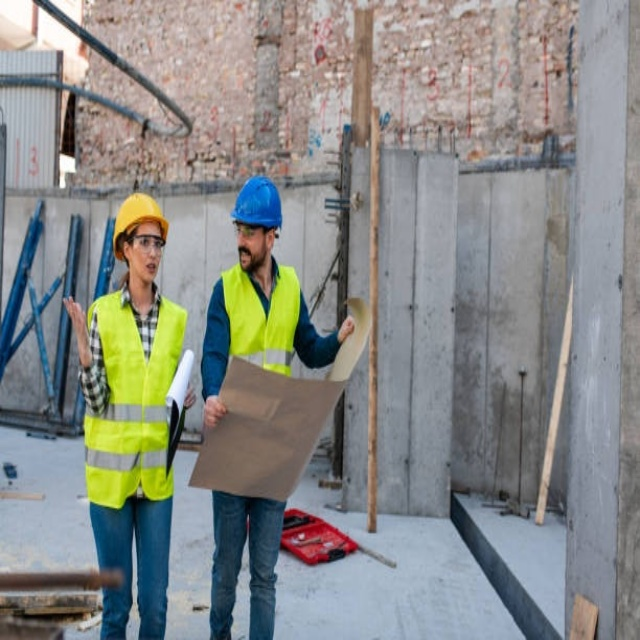Gafas: (130, 236, 166, 252), (233, 222, 268, 237)
Sin_guantes: (60, 293, 96, 358), (203, 394, 227, 429), (337, 316, 355, 345), (183, 384, 196, 410)
Sin_mascara: (236, 243, 255, 275), (140, 259, 161, 281)
